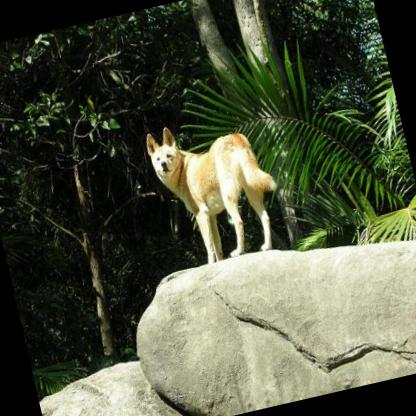dingo: (142, 104, 290, 272)
